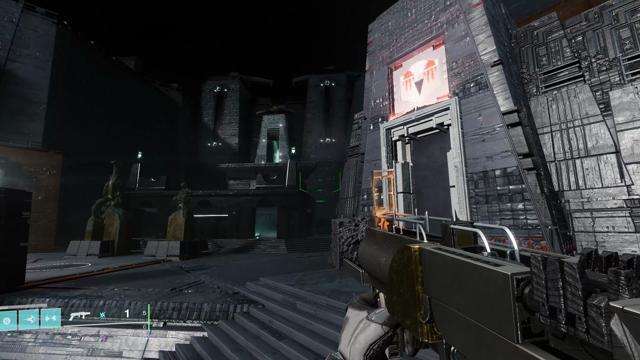give: (400, 59, 441, 102)
